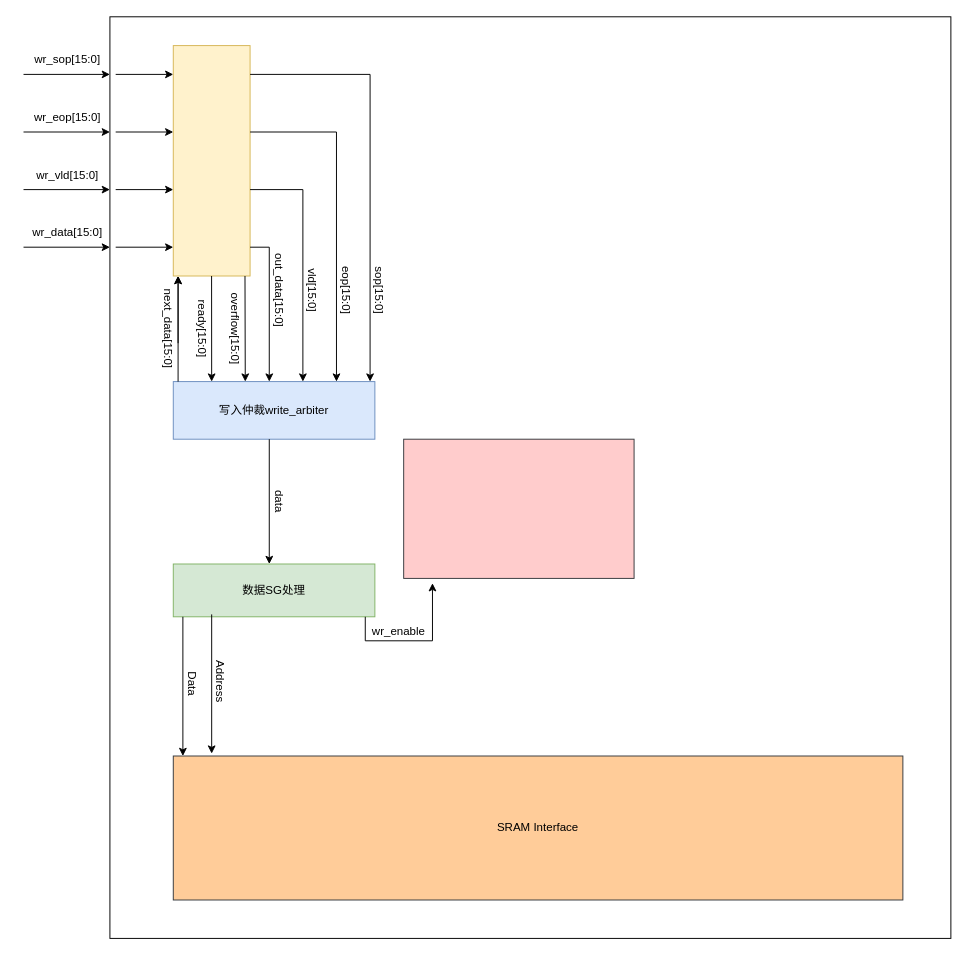
Some shapes in this 968 by 955 pixel diagram are drawn without their labels. The centre of each missing label's shape, as x and y in pixels:
"FIFO[15:0]" belongs at point 211,160.
"数据地址表" belongs at point 518,508.
